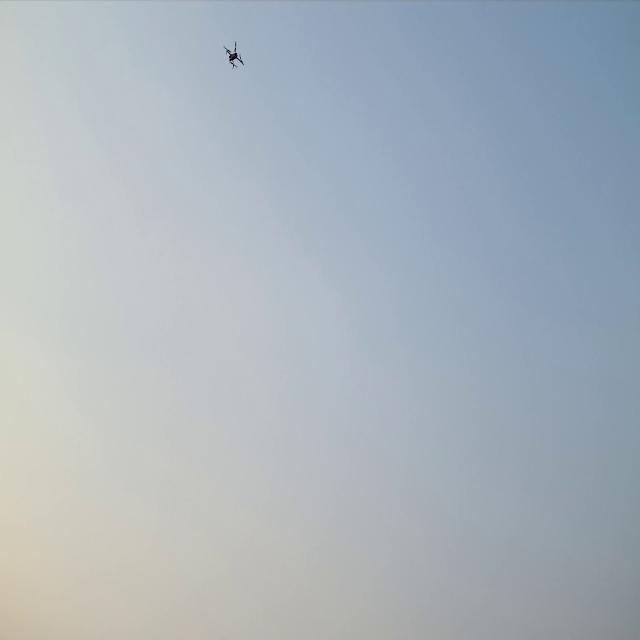UAV: (220, 40, 247, 71)
